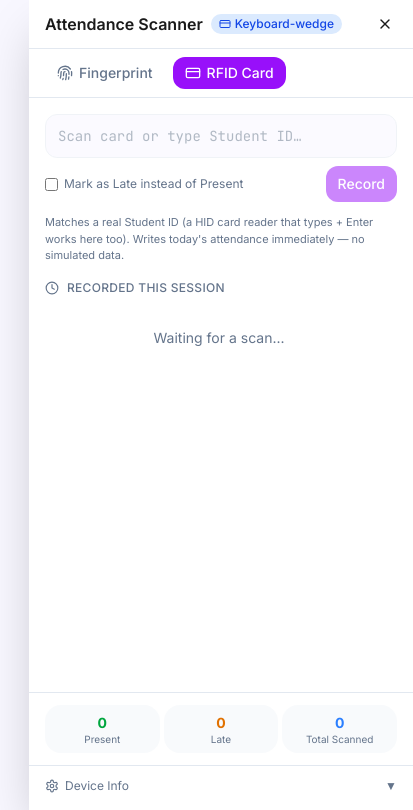
BiometricAttendance › updates the mode placeholder when switching between RFID and Fingerprint
Check: the field with placeholder "Scan card or type Student ID…" is shown, box top-left (45, 114), bottom-right (397, 158)
Click the button "Fingerprint": (105, 73) top-left (45, 57), bottom-right (165, 89)
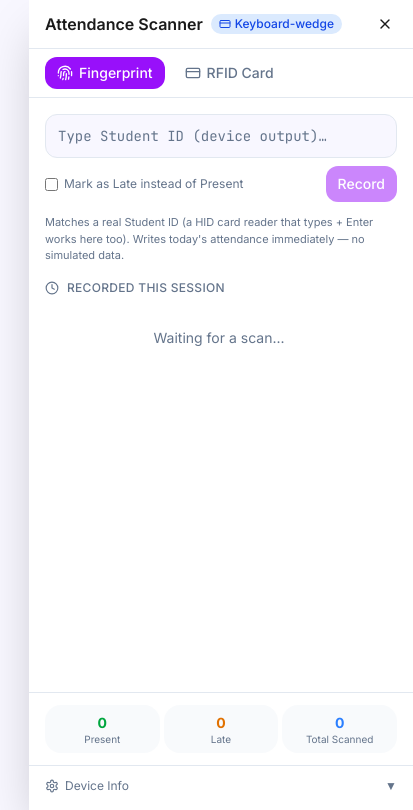
Check: the field with placeholder "Type Student ID (device output)…" is shown, box top-left (45, 114), bottom-right (397, 158)
